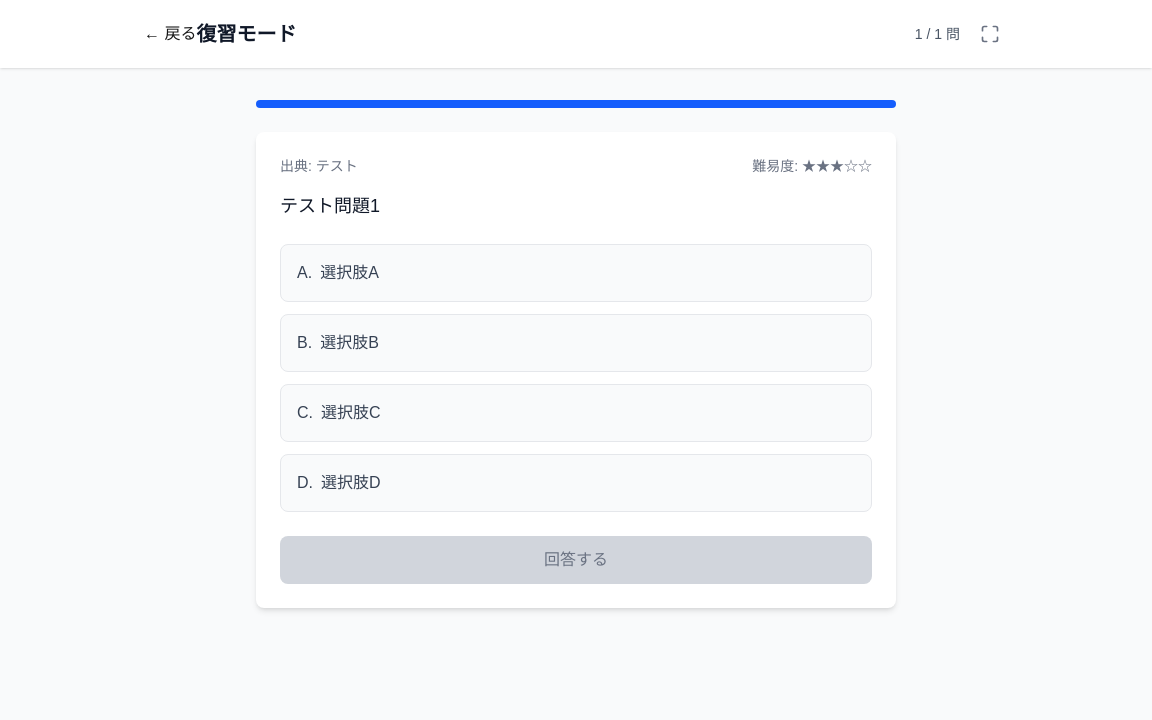
Test: ReviewPage › 回答処理 › API失敗時もローカル判定で結果が表示される
This screenshot has width=1152, height=720.
Expected: the heading "テスト問題1" is shown, top-left (280, 196), bottom-right (380, 216)
Click the text "B.".
click(305, 342)  # box top-left (297, 334), bottom-right (312, 351)
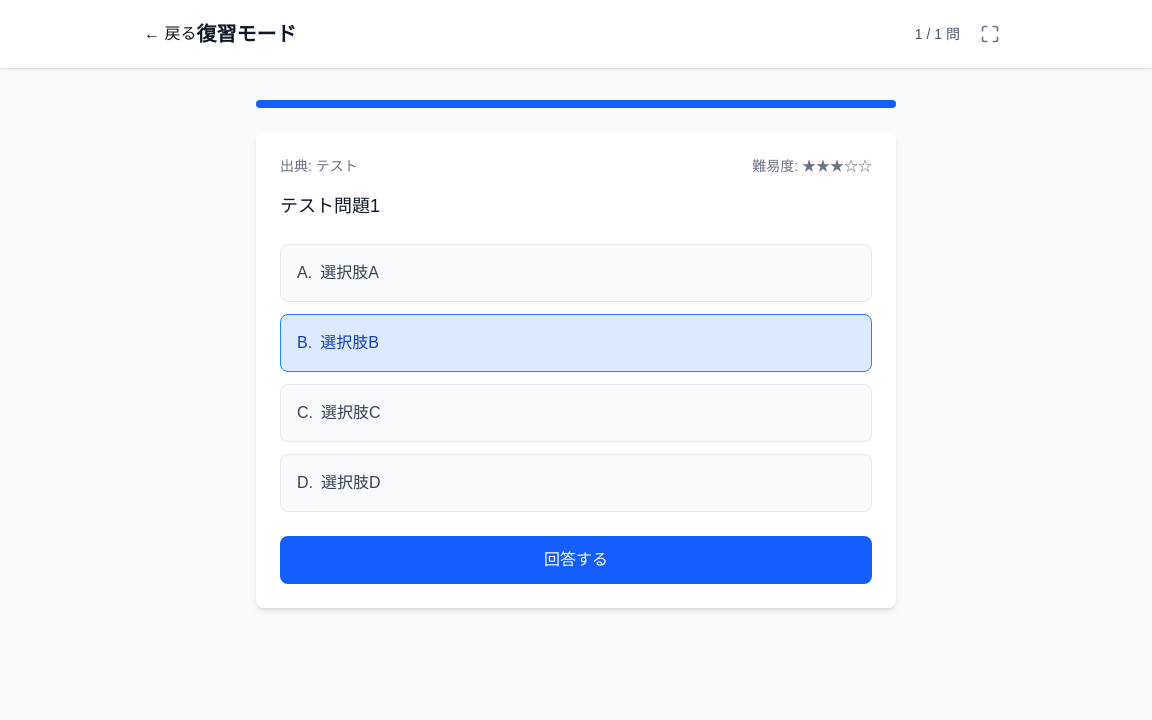
Click the button "回答する".
click(576, 560)  # box top-left (280, 536), bottom-right (872, 584)
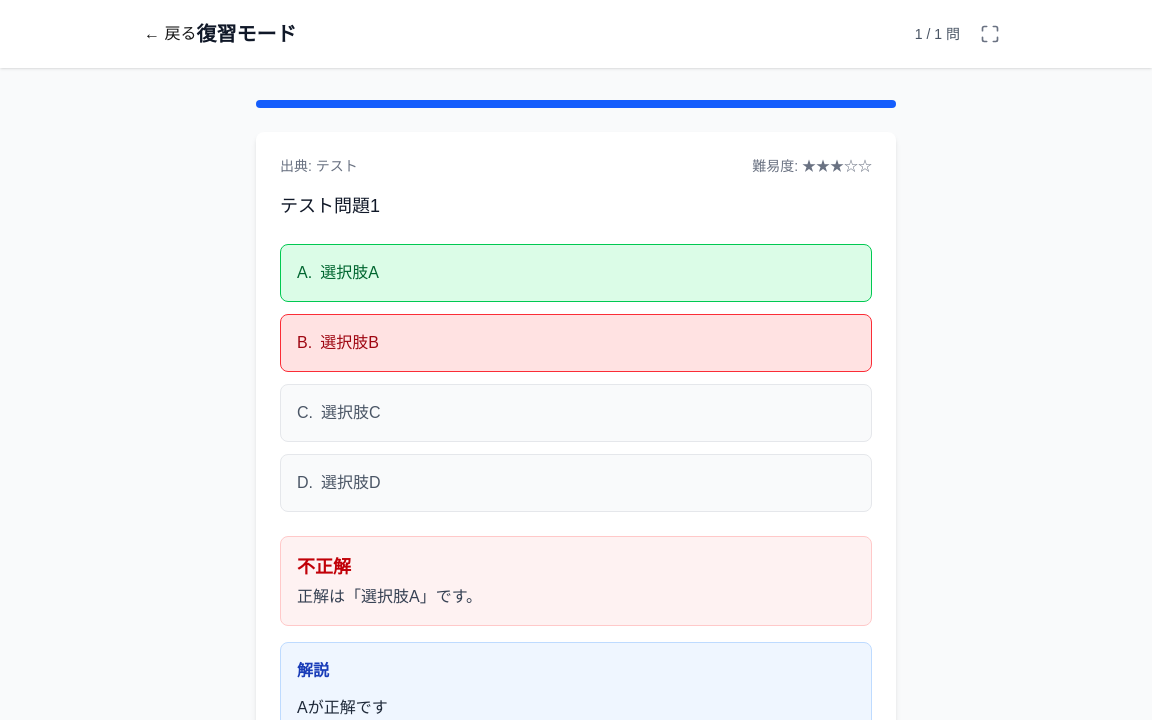
Expected: the text "不正解" is shown, top-left (297, 557), bottom-right (351, 577)
